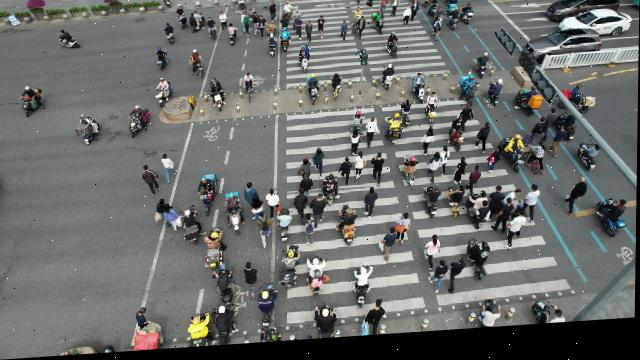non-motor-vehicle: (596, 205, 628, 247), (558, 89, 597, 123), (212, 266, 239, 312), (305, 258, 332, 302), (213, 307, 241, 349), (223, 193, 248, 240), (187, 313, 219, 349), (280, 248, 303, 295), (18, 83, 48, 119), (179, 208, 206, 248), (197, 176, 220, 222), (466, 243, 489, 289), (466, 197, 492, 237), (257, 285, 280, 330), (352, 269, 375, 314), (204, 230, 228, 273), (334, 208, 358, 251), (513, 92, 544, 125), (126, 104, 153, 141), (75, 113, 102, 149), (499, 197, 529, 229), (500, 141, 524, 181), (532, 305, 568, 331), (206, 78, 229, 117), (523, 146, 547, 183), (577, 147, 603, 181), (315, 307, 339, 343), (448, 122, 468, 159), (479, 306, 505, 334), (446, 189, 465, 226), (457, 81, 478, 114), (423, 190, 442, 226), (56, 28, 83, 53), (152, 78, 173, 110), (322, 177, 341, 212), (185, 49, 205, 82), (557, 117, 577, 150), (276, 211, 294, 247), (425, 97, 440, 134), (403, 159, 419, 193), (152, 48, 171, 75), (387, 117, 402, 151), (487, 85, 504, 115), (398, 105, 413, 134), (298, 49, 312, 79), (412, 78, 425, 110), (189, 13, 206, 37), (385, 37, 399, 66), (370, 15, 385, 42), (256, 331, 283, 346), (307, 79, 320, 110), (475, 58, 489, 86), (243, 75, 255, 107), (330, 78, 343, 107), (351, 113, 364, 141), (162, 24, 177, 48), (279, 30, 292, 56), (461, 8, 474, 33), (382, 69, 394, 96), (206, 19, 219, 43), (225, 26, 238, 50), (447, 13, 460, 37), (432, 13, 445, 35), (427, 2, 440, 24), (351, 12, 364, 32), (292, 12, 303, 35), (267, 36, 277, 61), (447, 1, 458, 22), (282, 4, 293, 24), (433, 24, 441, 48), (444, 0, 459, 12), (158, 0, 171, 11), (237, 0, 247, 14), (423, 0, 433, 14), (433, 0, 444, 7), (409, 0, 417, 8)
person: (132, 306, 168, 352), (364, 303, 390, 341), (565, 184, 589, 225), (377, 233, 399, 270), (428, 264, 449, 301), (492, 205, 514, 240), (509, 217, 527, 257), (424, 239, 442, 278), (256, 214, 274, 252), (309, 198, 327, 236), (142, 165, 162, 199), (300, 217, 320, 251), (243, 264, 260, 303), (527, 124, 547, 157), (451, 263, 468, 301), (525, 191, 541, 231), (466, 172, 483, 206), (161, 155, 179, 187), (396, 217, 412, 253), (370, 157, 385, 193), (551, 132, 567, 165), (265, 192, 282, 223), (490, 191, 505, 226), (243, 184, 262, 211), (293, 191, 308, 225), (259, 17, 278, 43), (156, 200, 173, 229), (250, 198, 267, 227), (438, 150, 452, 185), (544, 116, 558, 150), (364, 193, 379, 224), (475, 129, 489, 162), (458, 110, 475, 137), (487, 151, 502, 181), (339, 159, 353, 191), (453, 163, 468, 192), (365, 122, 379, 153), (427, 157, 440, 189), (421, 133, 435, 162), (175, 7, 190, 34), (164, 206, 178, 234), (313, 151, 325, 183), (299, 160, 313, 187), (352, 21, 367, 46), (300, 178, 315, 201), (356, 156, 368, 184), (409, 5, 422, 30), (350, 134, 360, 161), (218, 13, 229, 37), (316, 19, 327, 43), (304, 24, 313, 50), (267, 4, 278, 25), (390, 2, 399, 23), (253, 15, 260, 40), (243, 17, 250, 41), (295, 22, 302, 45), (381, 0, 389, 20), (240, 15, 247, 37), (247, 12, 254, 34), (403, 11, 410, 32), (341, 25, 348, 45), (367, 0, 374, 15), (356, 0, 363, 11), (247, 0, 254, 1)
